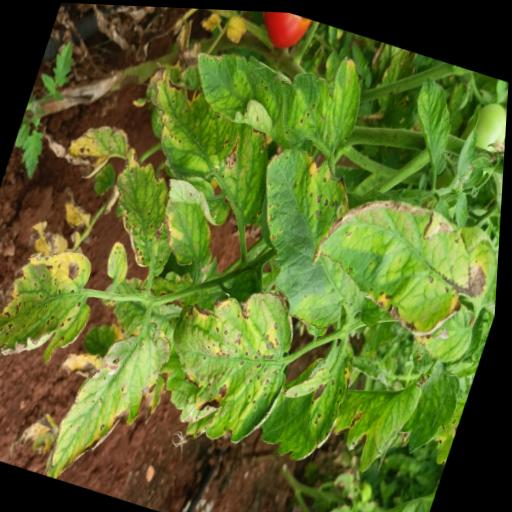Early Blight: (295, 168, 505, 359), (221, 132, 407, 338), (143, 258, 316, 461), (113, 58, 305, 237), (173, 7, 379, 164), (45, 294, 185, 499), (254, 314, 371, 479), (0, 223, 113, 382), (90, 138, 203, 277)
